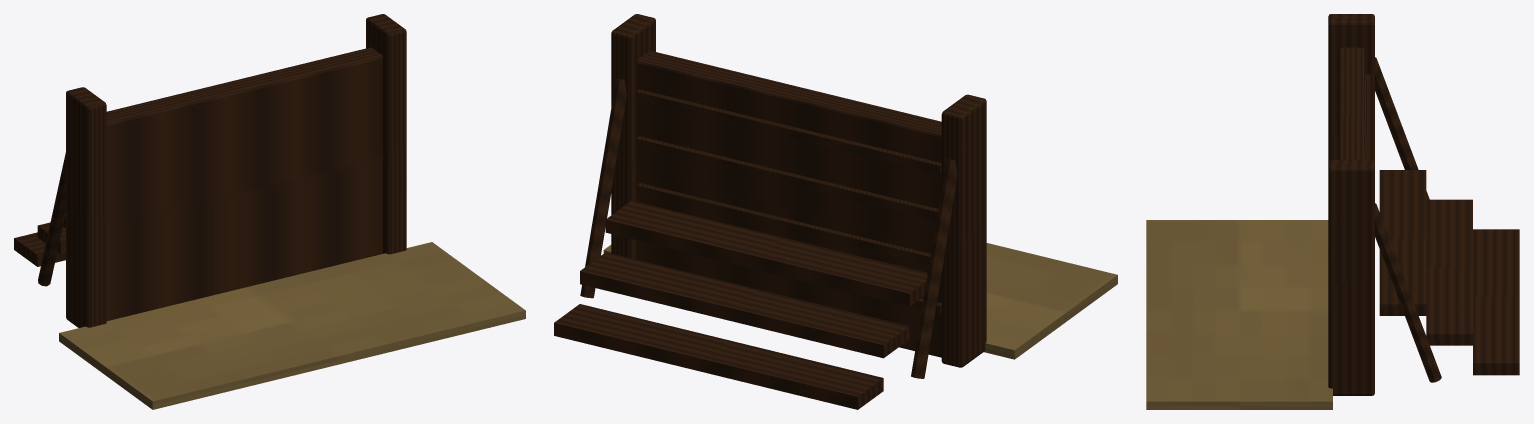
File: fac_obst_wall.glb
3 renders of one model, left to right at view 1: azimuth 30°, elevation 25°; view 2: azimuth 150°, elevation 25°; view 3: azimuth 270°, elevation 25°, orthographic. The views are drawn at different scales.
Visible parts, largest first — view 1: FAC_OBST_WALL; view 2: FAC_OBST_WALL; view 3: FAC_OBST_WALL.
Boxes of the visible parts, x1,y1,x2,y2 form: FAC_OBST_WALL: (14, 14, 525, 409); FAC_OBST_WALL: (554, 14, 1117, 409); FAC_OBST_WALL: (1146, 14, 1519, 409).
Bounding box in the file's own units: 4.6 × 2.7 × 4.
Materials: 2 (2 with a texture image).
